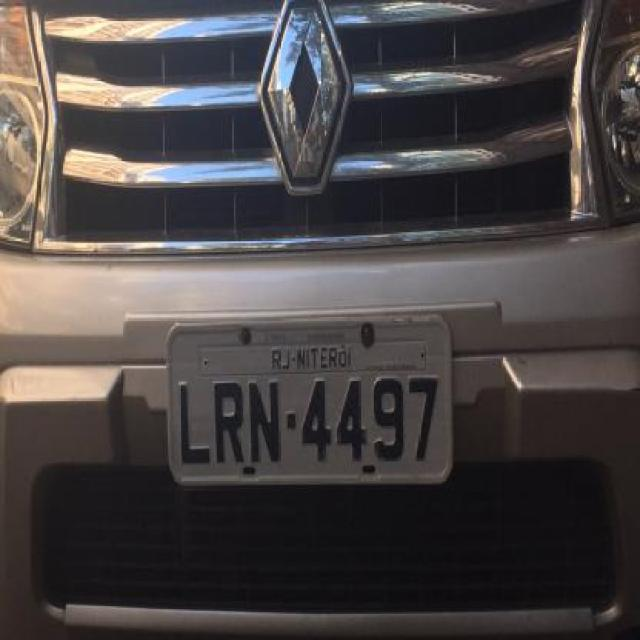old_plate: (162, 305, 459, 493)
